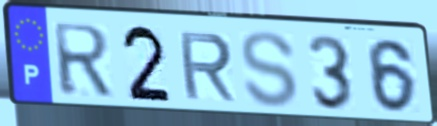2: (120, 23, 174, 105)
3: (306, 33, 356, 113)
6: (365, 36, 418, 115)
R: (49, 21, 116, 98), (175, 30, 238, 103)
S: (238, 28, 301, 111)
